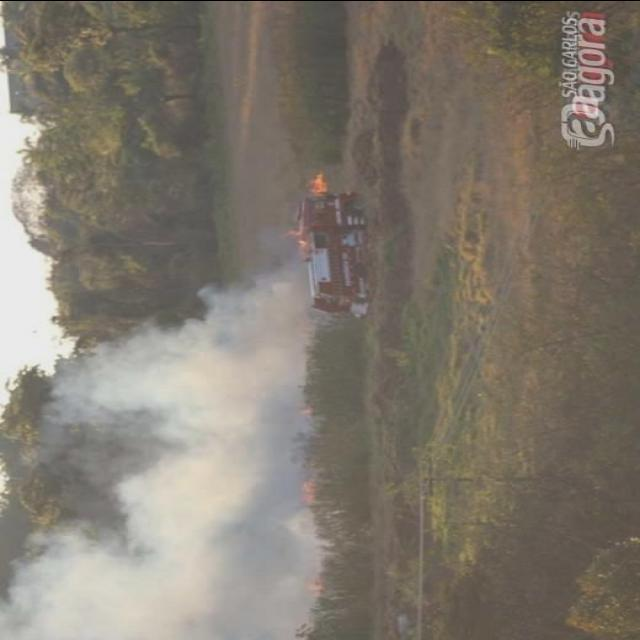Fire: (310, 173, 328, 192)
